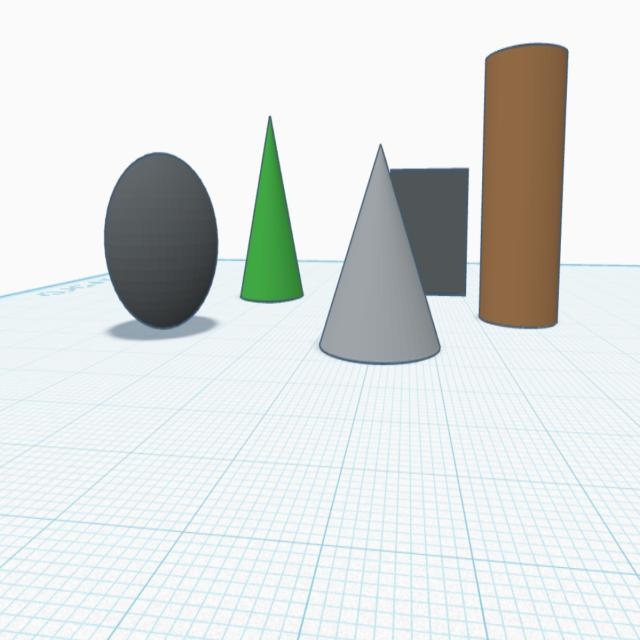cone: (317, 136, 444, 369), (238, 107, 306, 307)
sphere: (101, 148, 222, 336)
